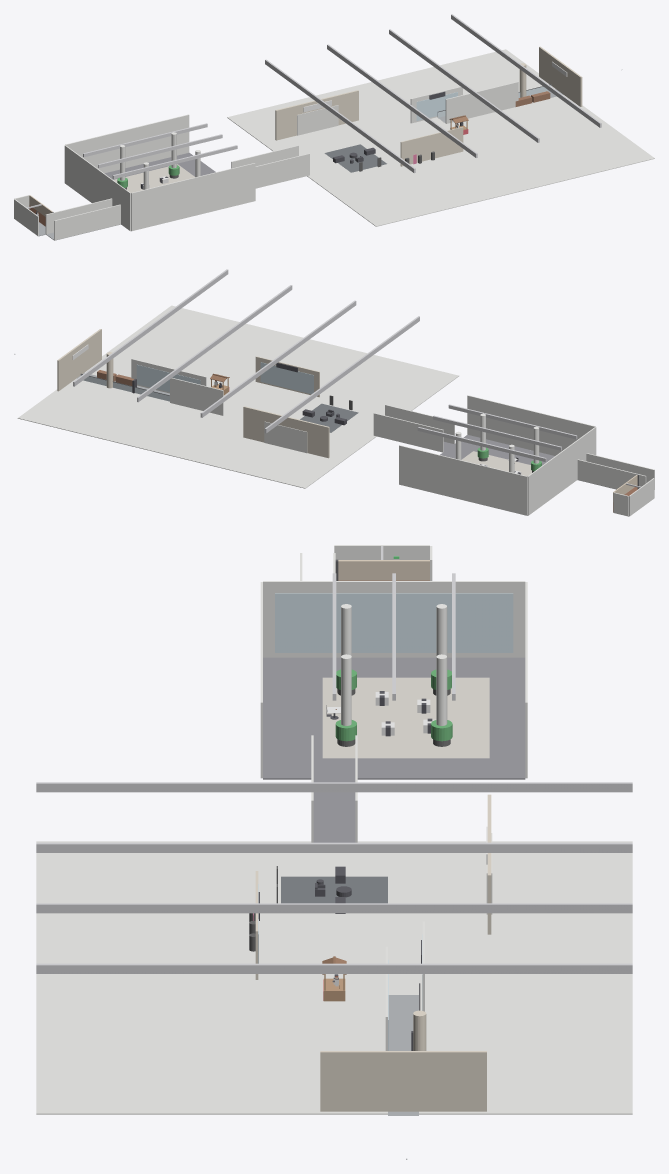
3 views of the same model, one above another, from view 1: azimuth 30°, elevation 25°; view 2: azimuth 150°, elevation 25°; view 3: azimuth 270°, elevation 25° (orthographic). The views are drawn at different scales.
Parts seen in each view (by area): view 1: S03_Floor, S02_South_Wall, S02_Back_Wall, S02_Window_Wall, S03_Artcetera_Wall, S03_JCP_Wall, S03_Zayra_Wall, Corr01_Wall_South, S03_Morgan_Wall, Corr02_Wall_South, S03_RoofBeam_0, S03_RoofBeam_1 (+14 smaller); view 2: S03_Floor, S02_Back_Wall, S02_South_Wall, S02_Window_Wall, S03_JCP_Wall, Corr02_Wall_North, S03_Morgan_Wall, S03_Edge_Store_Wall, Corr01_Wall_North, S03_RoofBeam_1, S03_RoofBeam_2, S03_RoofBeam_0 (+16 smaller); view 3: S03_Floor, S02_Floor, S02_Window_Glass, S02_Floor_Inlay, S03_Morgan_Wall, S03_RoofBeam_0, S03_RoofBeam_1, S03_RoofBeam_2, S03_RoofBeam_3, S02_Window_Wall, S03_Lounge_Rug, Corr02_Floor (+3 smaller).
Boxes of the visible parts, x1,y1,x2,y2 form: S03_Floor: (227, 49, 654, 226); S02_South_Wall: (131, 163, 255, 230); S02_Back_Wall: (65, 114, 189, 173); S02_Window_Wall: (64, 145, 130, 230); S03_Artcetera_Wall: (445, 81, 518, 123); S03_JCP_Wall: (275, 90, 358, 140); S03_Zayra_Wall: (400, 127, 463, 166); Corr01_Wall_South: (54, 204, 120, 240); S03_Morgan_Wall: (539, 46, 582, 106); Corr02_Wall_South: (255, 153, 309, 188); S03_RoofBeam_0: (265, 59, 415, 173); S03_RoofBeam_1: (327, 44, 477, 157); S03_Floor: (17, 305, 458, 488); S02_Back_Wall: (399, 445, 527, 515); S02_South_Wall: (467, 395, 595, 455); S02_Window_Wall: (527, 427, 596, 515); S03_JCP_Wall: (243, 406, 329, 458); Corr02_Wall_North: (373, 413, 443, 452); S03_Morgan_Wall: (57, 329, 101, 391); S03_Edge_Store_Wall: (170, 378, 223, 415); Corr01_Wall_North: (577, 459, 646, 489); S03_RoofBeam_1: (200, 300, 356, 417); S03_RoofBeam_2: (137, 285, 292, 402); S03_RoofBeam_0: (264, 316, 419, 433); S03_Floor: (36, 841, 632, 1114); S02_Floor: (263, 657, 525, 779); S02_Window_Glass: (275, 593, 513, 652); S02_Floor_Inlay: (322, 677, 489, 758); S03_Morgan_Wall: (320, 1051, 486, 1111); S03_RoofBeam_0: (36, 782, 632, 792); S03_RoofBeam_1: (36, 842, 632, 852); S03_RoofBeam_2: (36, 903, 632, 913); S03_RoofBeam_3: (36, 963, 632, 973); S02_Window_Wall: (263, 581, 525, 657); S03_Lounge_Rug: (281, 876, 387, 903); Corr02_Floor: (313, 778, 355, 842).
Size of the model in its own units: 117 by 9.07 by 50.
